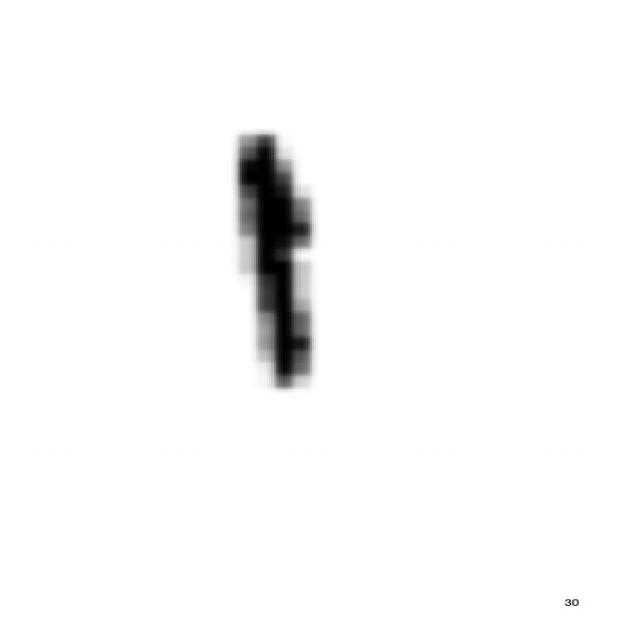1 -one-: (210, 110, 336, 410)
